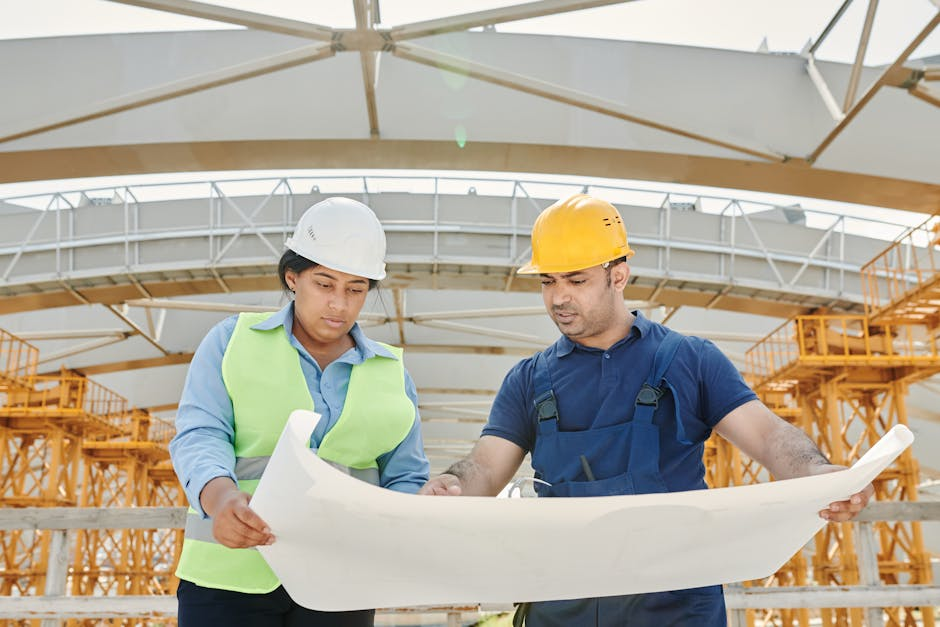safety_helmet: (516, 192, 635, 277), (283, 195, 388, 282)
